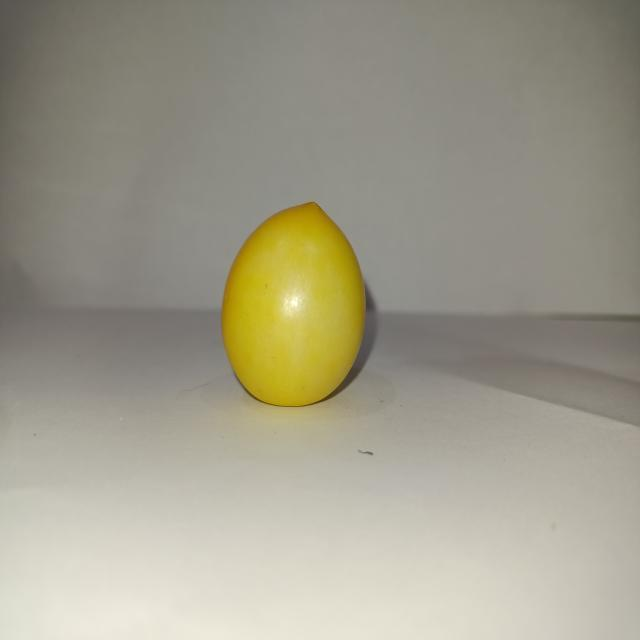Red: (220, 199, 367, 407)
